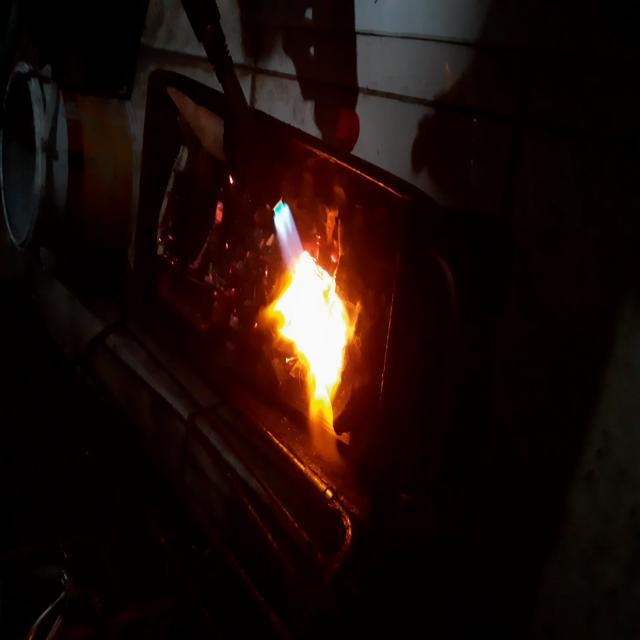Fire: (265, 188, 358, 418)
